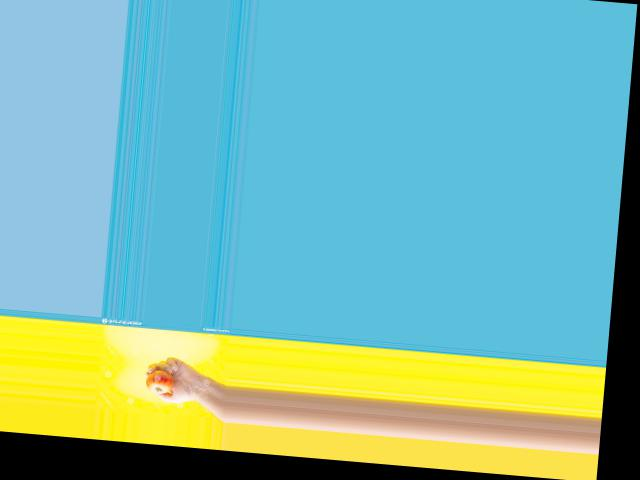tomato: (146, 368, 174, 394)
